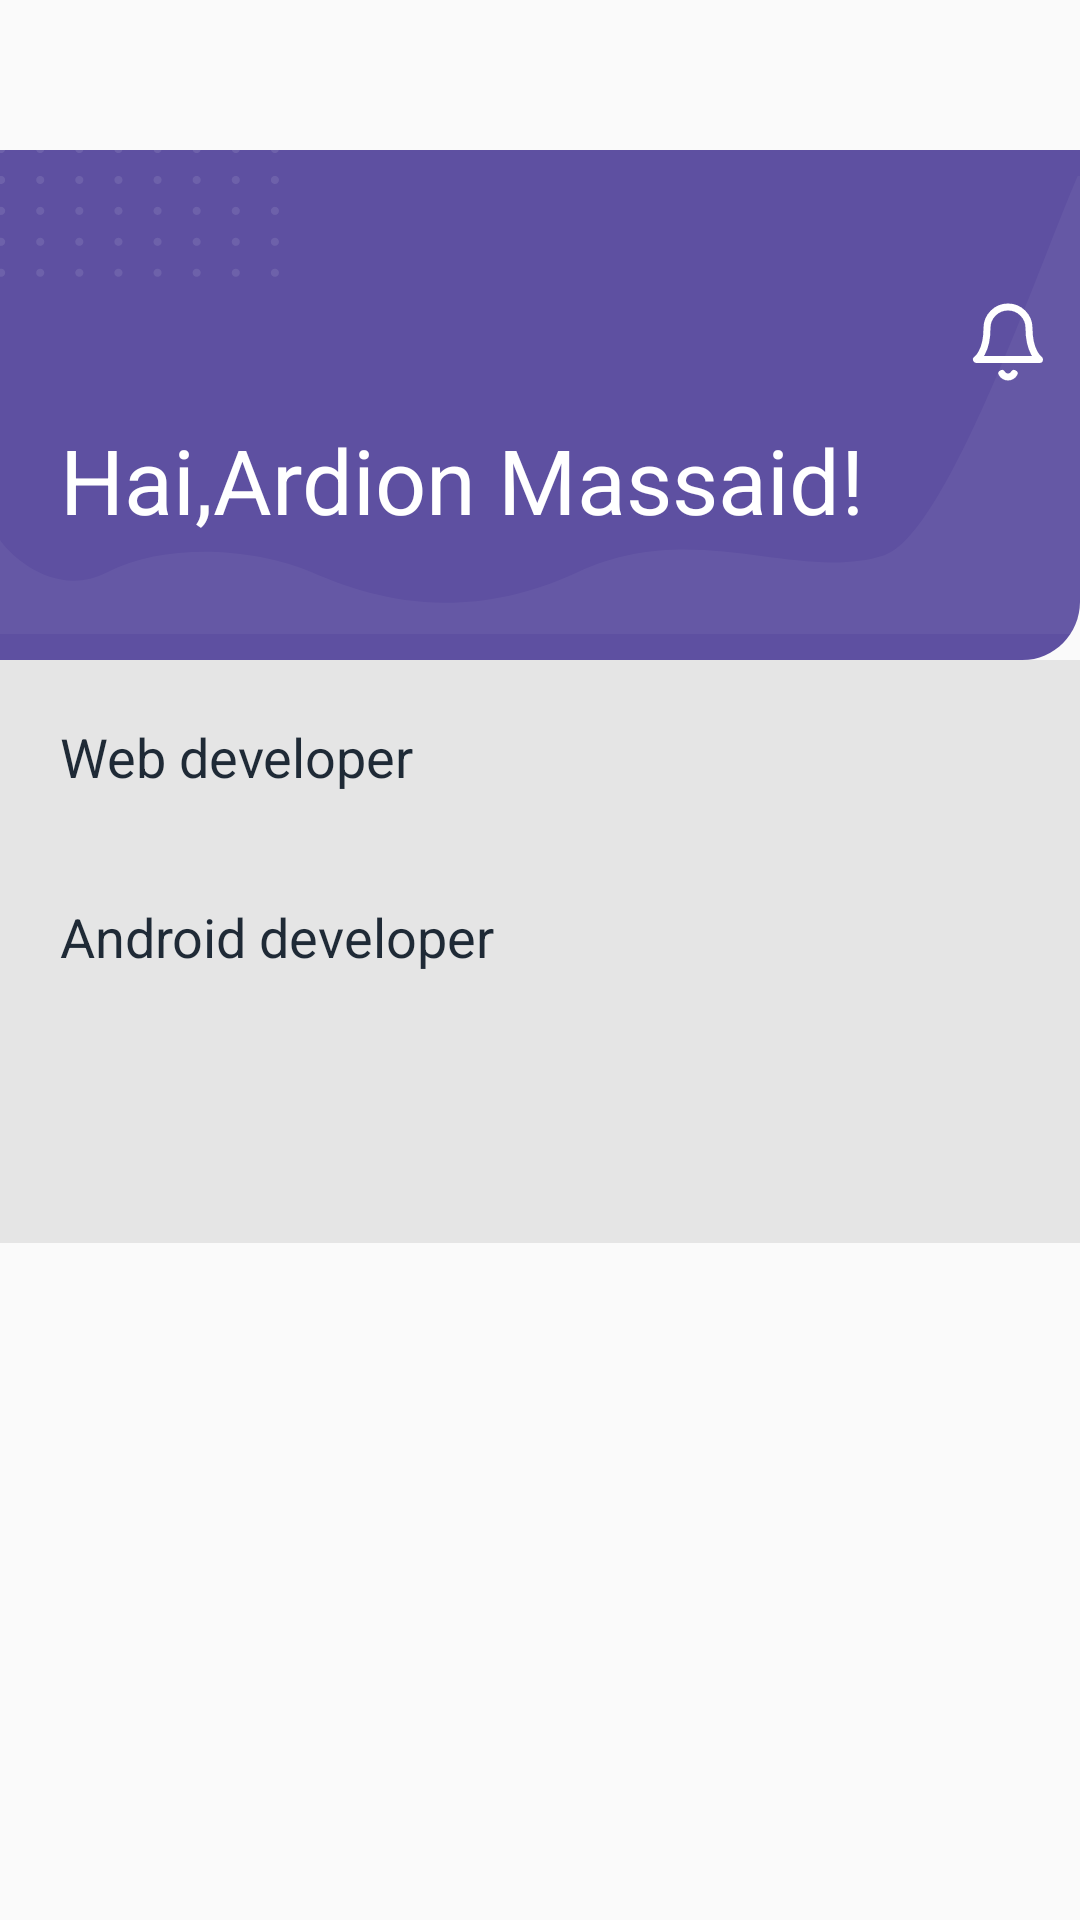

Point at icon controls on the screen. Image size 1080x1920, points as (x,y).
bell: (1008,342)
